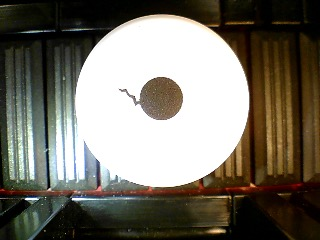CRACK: (74, 14, 250, 187)
